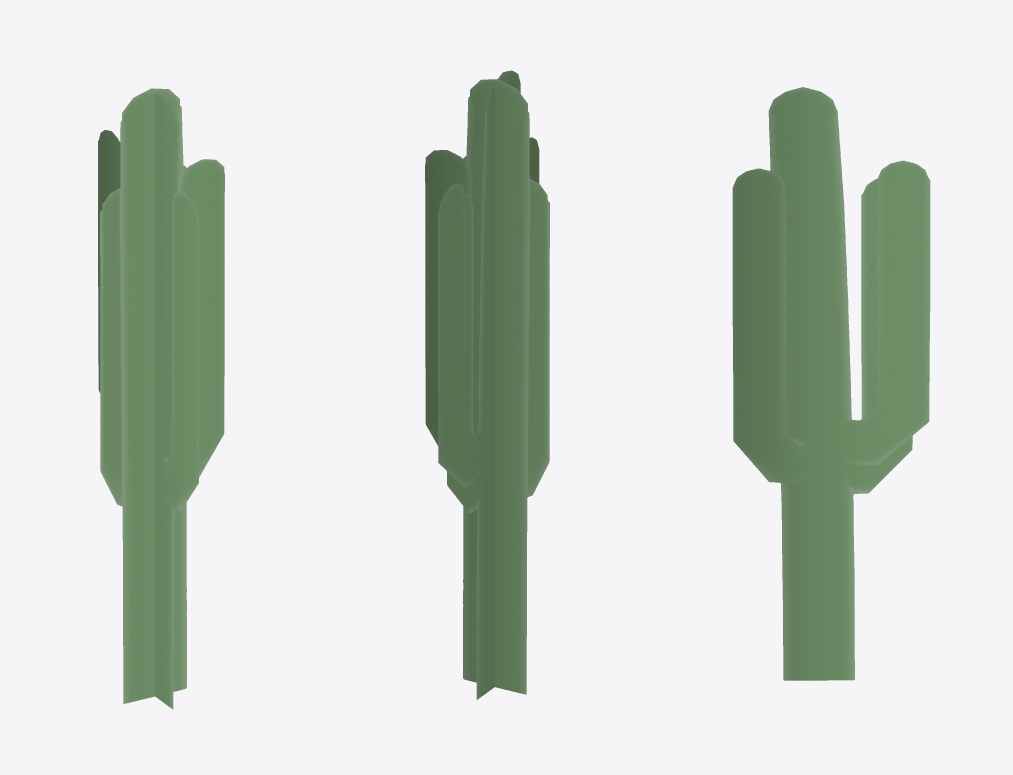
Rendered from saguaro_1_far.glb.
The picture shows the model from 3 angles, left to right: view 1: azimuth 30°, elevation 25°; view 2: azimuth 150°, elevation 25°; view 3: azimuth 270°, elevation 25°; orthographic projection. The views are drawn at different scales.
Visible parts, largest first — view 1: saguaro_1_far; view 2: saguaro_1_far; view 3: saguaro_1_far.
Boxes of the visible parts, box(x1,y1,x2,y2) form: saguaro_1_far: box(98, 88, 224, 709); saguaro_1_far: box(425, 70, 549, 699); saguaro_1_far: box(732, 87, 930, 680).
Size of the model in its own units: 3.02 by 6.03 by 3.02.
1 material, 1 textured.
